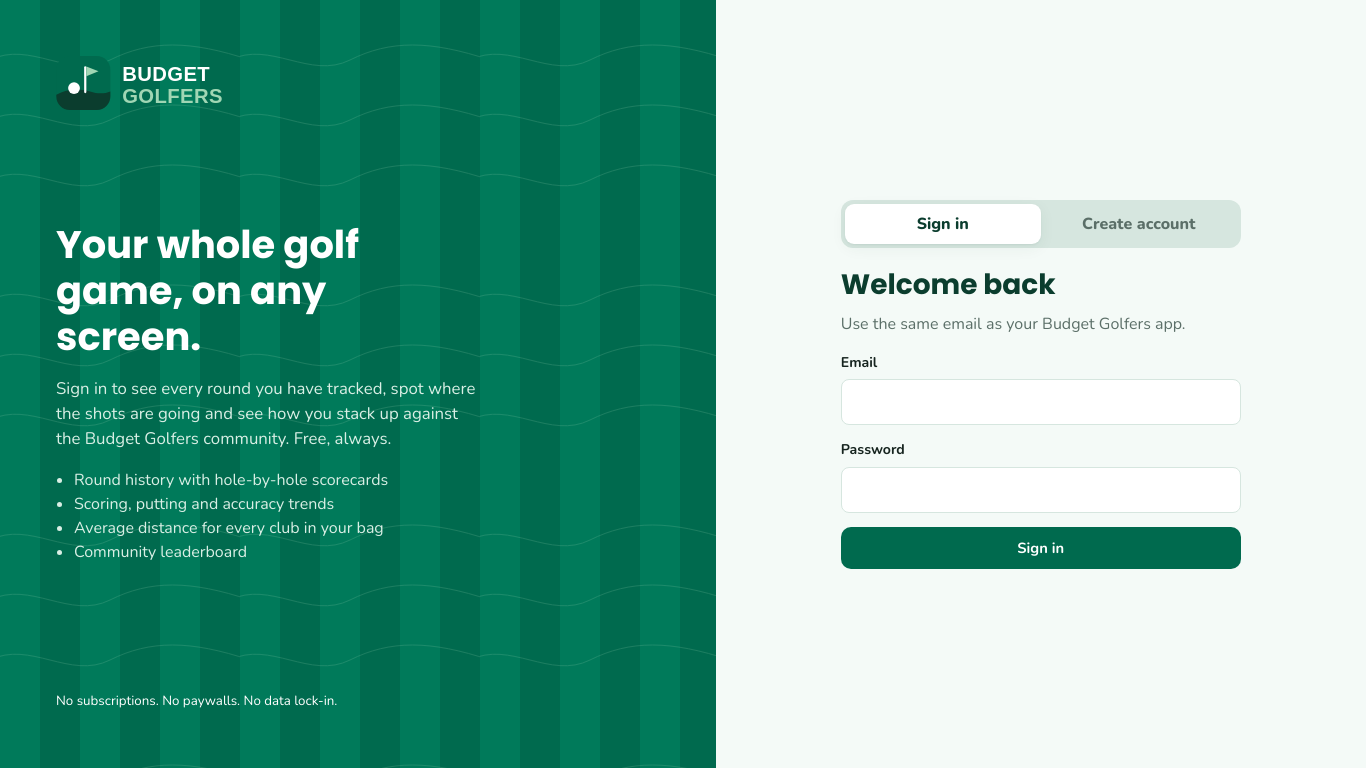
Test: routing and sign-in › signing in returns the golfer to the page they asked for
Type "aroha.m@example.com" into the field labelled "Email". click: (1041, 402)
box: top-left (841, 379), bottom-right (1241, 425)
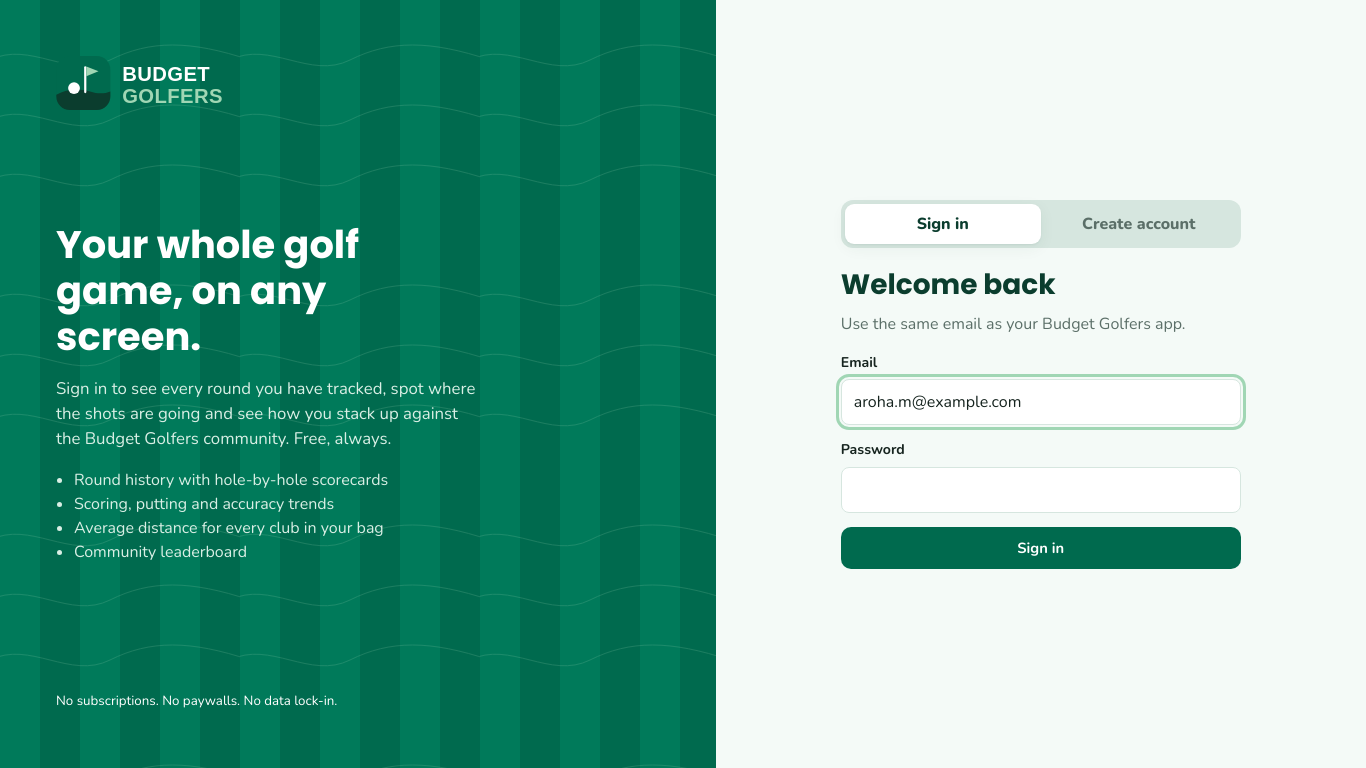
Type "Correct-Horse-7" into the password field labelled "Password". click: (1041, 490)
box: top-left (841, 466), bottom-right (1241, 512)
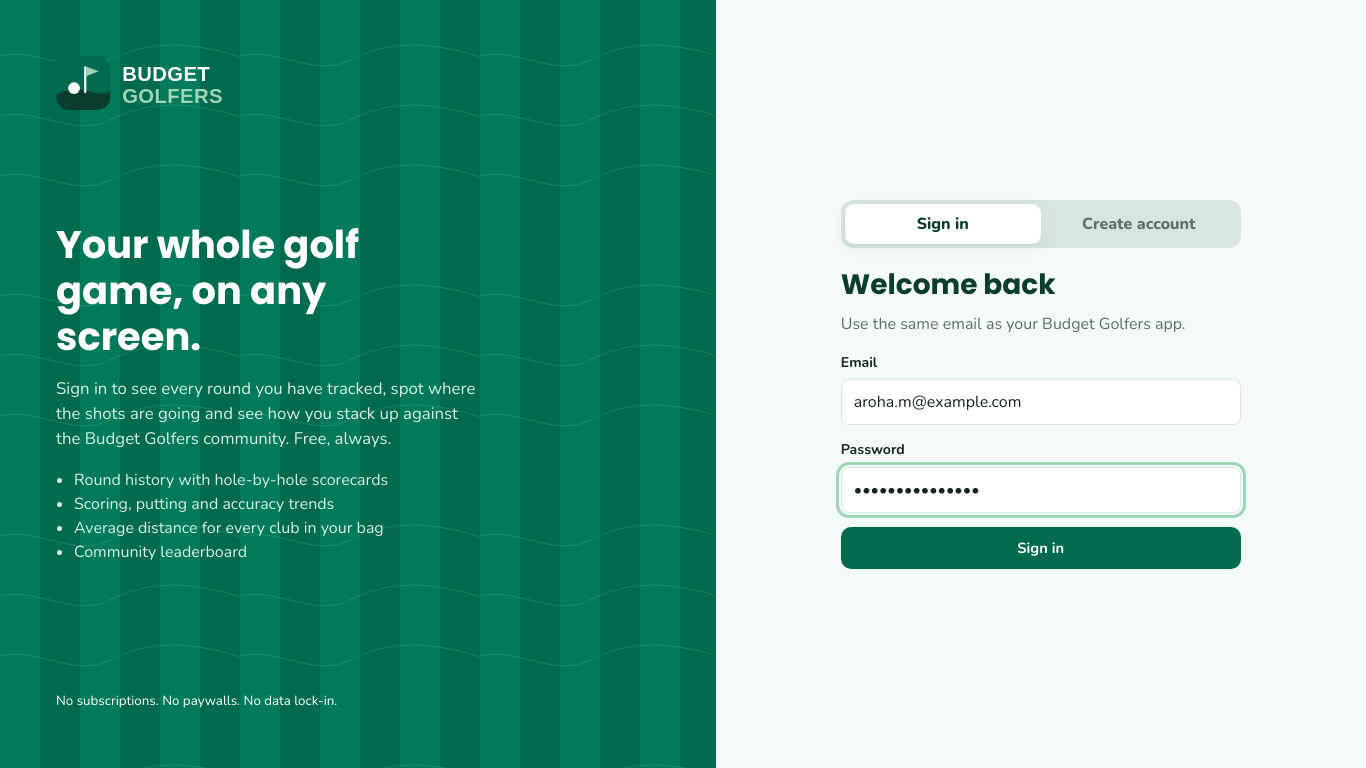
Click the button "Sign in". click: (1041, 548)
box: top-left (841, 526), bottom-right (1241, 568)
(page scrolled)
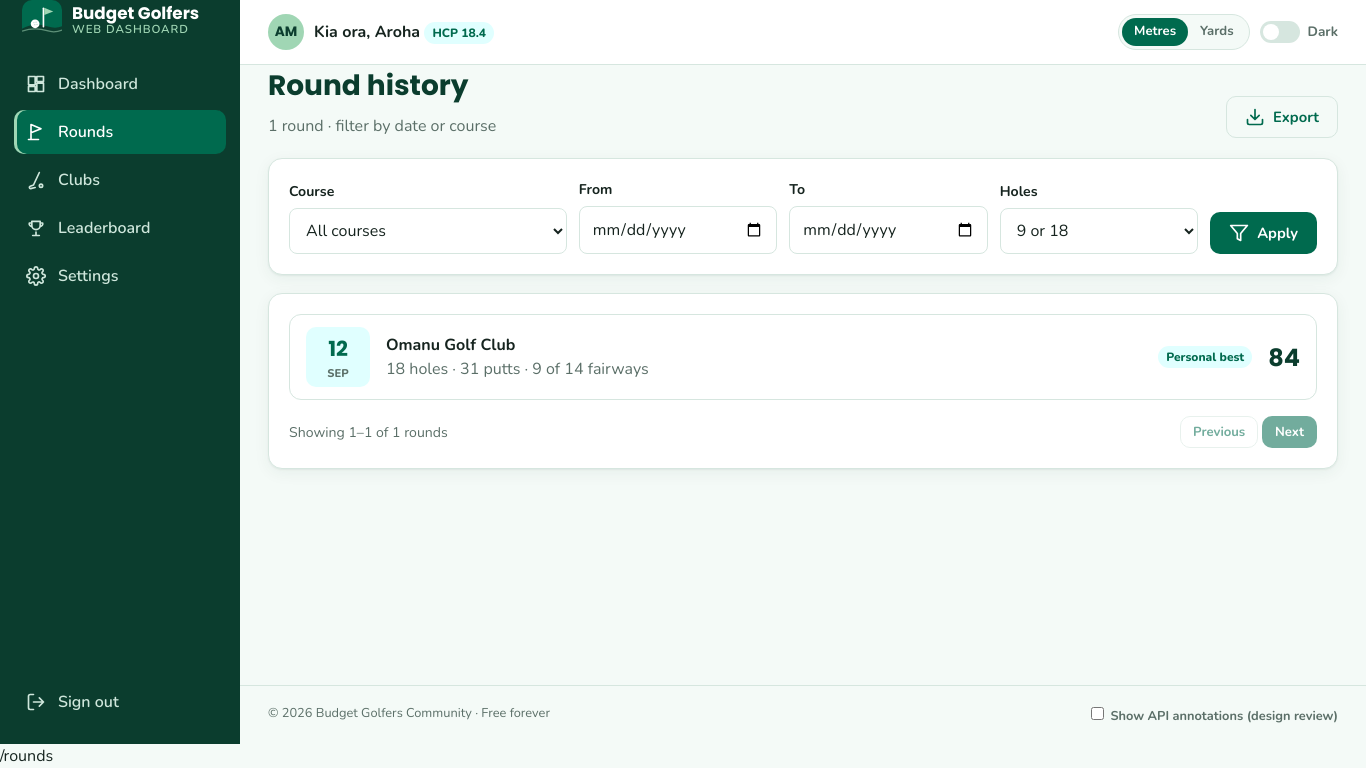
Expected: the heading "Round history" is shown, top-left (268, 69), bottom-right (496, 103)
Expected: the text with test id "location" reads "/rounds", top-left (0, 745), bottom-right (53, 767)
